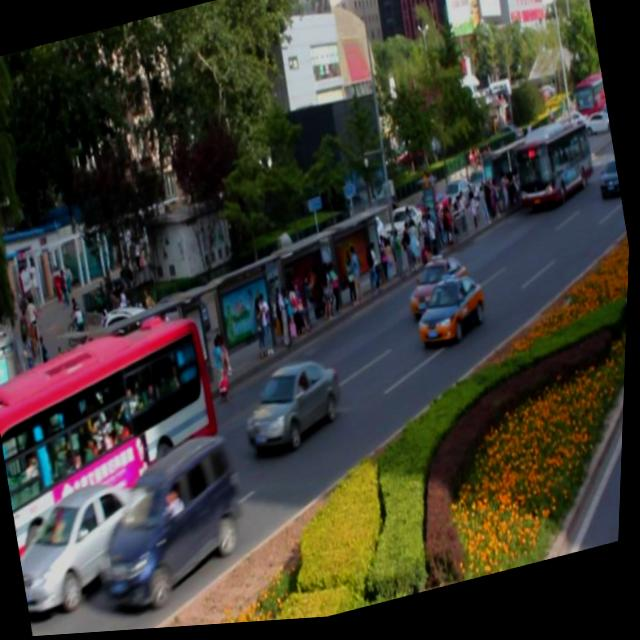car: (13, 473, 165, 616), (239, 352, 350, 456), (413, 276, 492, 354), (404, 255, 476, 324), (595, 164, 624, 208)
truck: (84, 429, 259, 614)
van: (0, 307, 244, 582), (507, 119, 599, 217)
